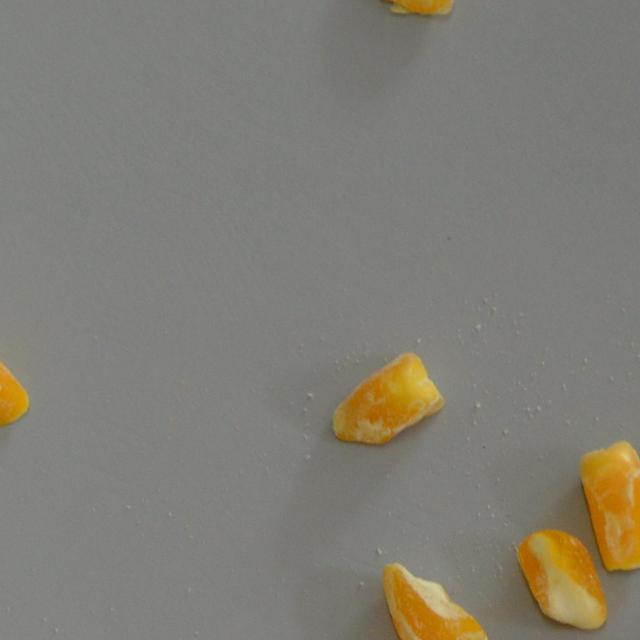dañado: (327, 348, 448, 448), (512, 523, 610, 634), (574, 432, 640, 576), (378, 557, 490, 640), (0, 308, 32, 429)
